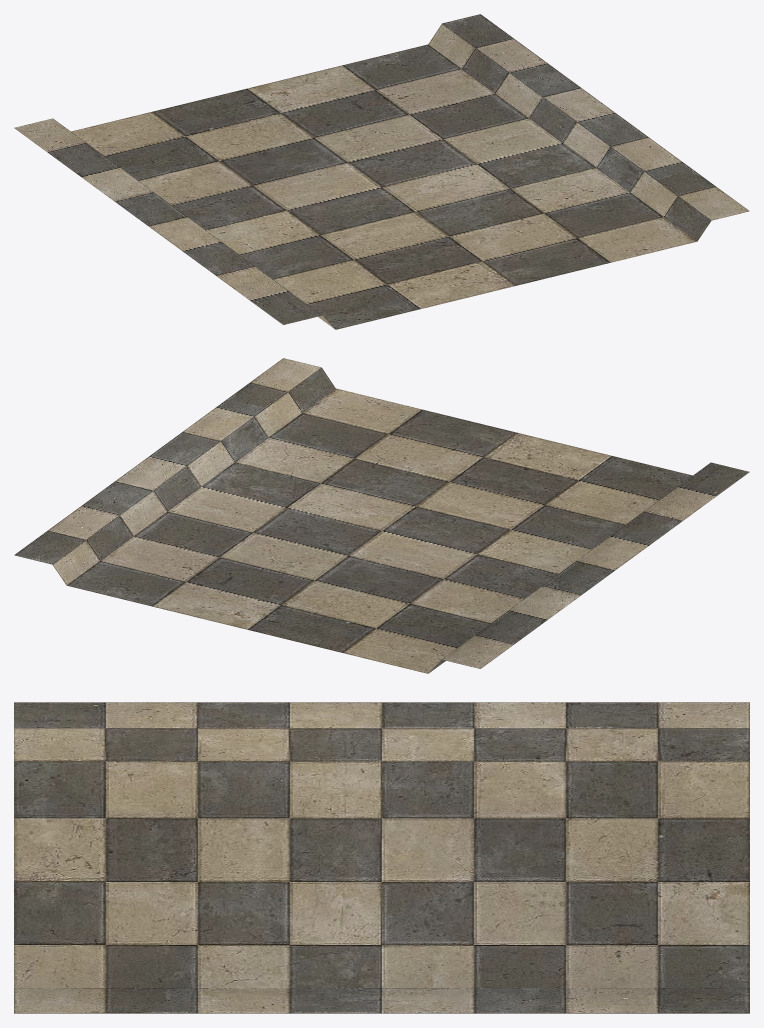
The model's file is str_floor3.fbx.
3 renders of one model, top to bottom at view 1: azimuth 30°, elevation 25°; view 2: azimuth 150°, elevation 25°; view 3: azimuth 270°, elevation 25°, orthographic. The views are drawn at different scales.
Parts seen in each view (by area): view 1: straight_floor2:pPlane1; view 2: straight_floor2:pPlane1; view 3: straight_floor2:pPlane1.
Part boxes in pixels (x1,y1,x2,y2): straight_floor2:pPlane1: (14,14,749,329); straight_floor2:pPlane1: (14,358,749,673); straight_floor2:pPlane1: (14,702,749,1013).
Size of the model in its own units: 60 by 2.15 by 60.
